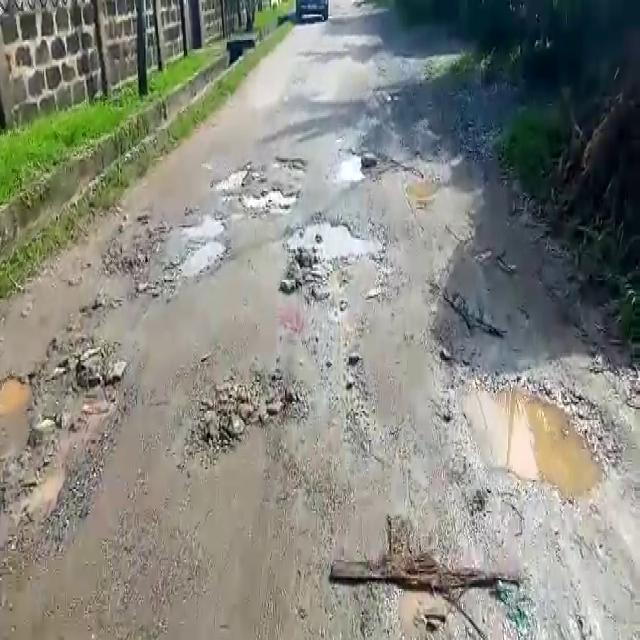pothole: (453, 370, 619, 503), (199, 365, 306, 450), (297, 216, 387, 258), (179, 242, 231, 278), (0, 371, 35, 419), (451, 153, 491, 194), (238, 189, 298, 214), (181, 212, 227, 243), (403, 170, 446, 203), (339, 152, 370, 182), (271, 153, 309, 172)
